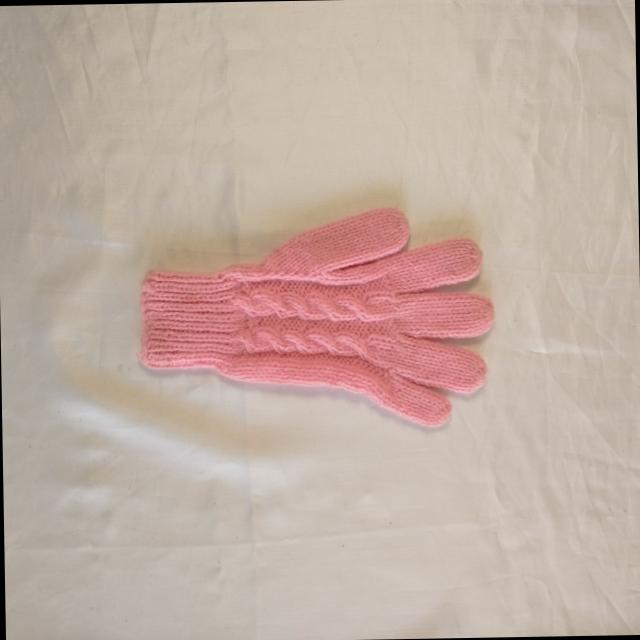Guante: (134, 204, 497, 433)
